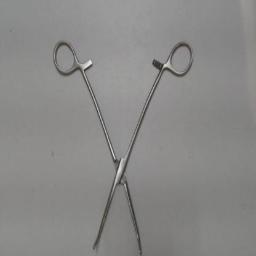Lahey Forceps: (48, 36, 198, 254)
